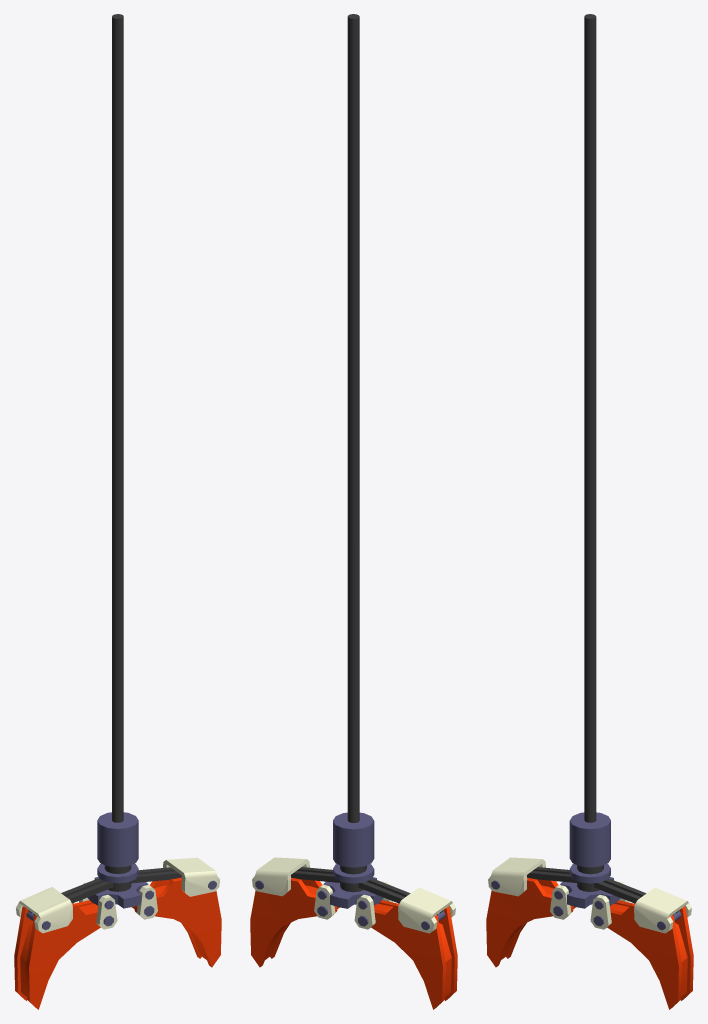
File: Sub_Claw.fbx
The picture shows the model from 3 angles, left to right: view 1: azimuth 30°, elevation 25°; view 2: azimuth 150°, elevation 25°; view 3: azimuth 330°, elevation 25°; orthographic projection.
Visible parts, largest first — view 1: Tube, MainClaw_R, MainClaw_L, Claw_Base, Claw_Wrist, ClawPivot_R_1, ClawPivot_L_1, Clawpivot_R_Pulley, Clawpivot_L_Pulley; view 2: Tube, MainClaw_R, MainClaw_L, Claw_Base, Claw_Wrist, ClawPivot_R_1, ClawPivot_L_1, Clawpivot_R_Pulley, Clawpivot_L_Pulley; view 3: Tube, MainClaw_L, MainClaw_R, Claw_Base, Claw_Wrist, ClawPivot_L_1, ClawPivot_R_1, Clawpivot_L_Pulley, Clawpivot_R_Pulley.
Part boxes in pixels (bbox=[...]): Tube: bbox=[112, 14, 123, 822]; MainClaw_R: bbox=[14, 900, 100, 1009]; MainClaw_L: bbox=[132, 877, 221, 967]; Claw_Base: bbox=[79, 863, 157, 929]; Claw_Wrist: bbox=[97, 812, 138, 867]; ClawPivot_R_1: bbox=[16, 887, 72, 933]; ClawPivot_L_1: bbox=[163, 857, 219, 896]; Clawpivot_R_Pulley: bbox=[28, 878, 113, 915]; Clawpivot_L_Pulley: bbox=[130, 867, 181, 883]; Tube: bbox=[347, 14, 359, 822]; MainClaw_R: bbox=[371, 900, 457, 1009]; MainClaw_L: bbox=[250, 877, 339, 967]; Claw_Base: bbox=[314, 864, 392, 929]; Claw_Wrist: bbox=[333, 812, 374, 867]; ClawPivot_R_1: bbox=[398, 887, 455, 933]; ClawPivot_L_1: bbox=[252, 857, 309, 896]; Clawpivot_R_Pulley: bbox=[358, 878, 443, 915]; Clawpivot_L_Pulley: bbox=[290, 867, 340, 882]; Tube: bbox=[584, 14, 596, 822]; MainClaw_L: bbox=[607, 900, 693, 1009]; MainClaw_R: bbox=[486, 877, 575, 967]; Claw_Base: bbox=[550, 864, 628, 929]; Claw_Wrist: bbox=[569, 812, 610, 867]; ClawPivot_L_1: bbox=[634, 887, 691, 933]; ClawPivot_R_1: bbox=[488, 857, 545, 896]; Clawpivot_L_Pulley: bbox=[594, 878, 678, 915]; Clawpivot_R_Pulley: bbox=[527, 867, 577, 882].
Size of the model in its own units: 113 by 540 by 30.59.
